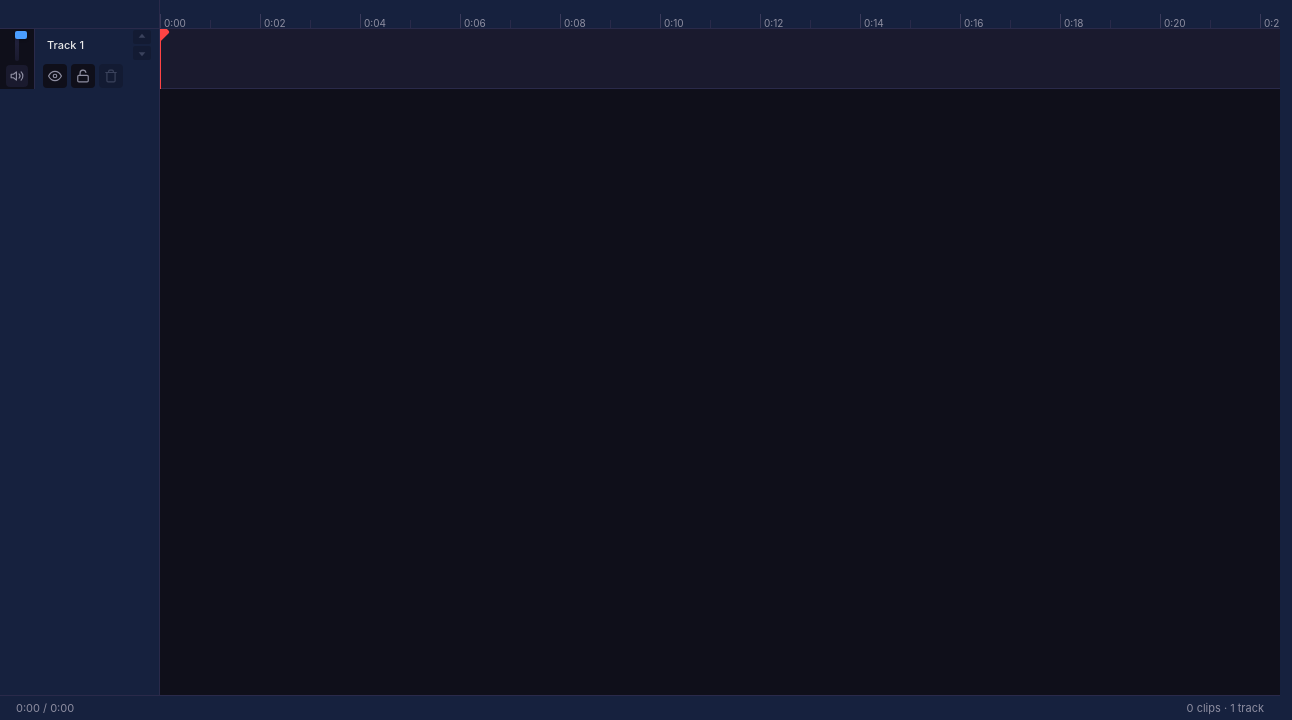
Test case: Timeline track headers › commits a rename when the field loses focus
Double-click the button "Track 1" at (86, 45), box [43,36,129,54]
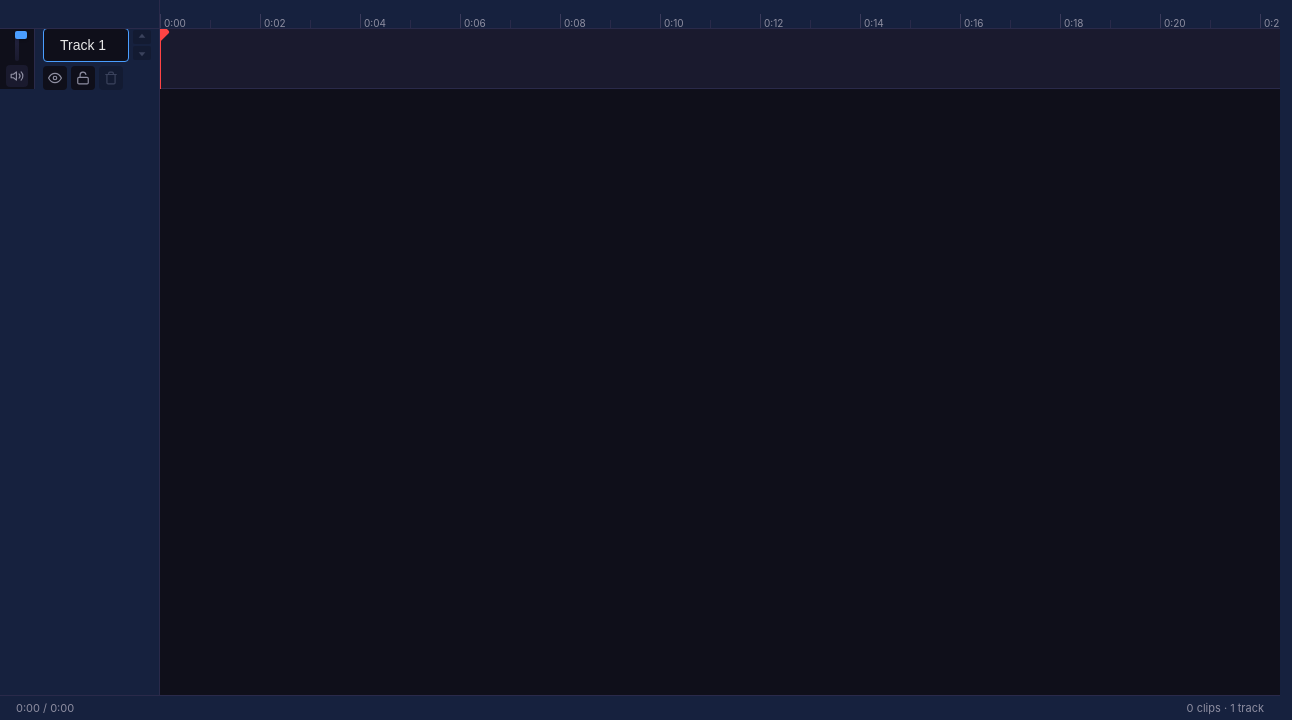
Replace the text in the field with "  Music  " at (86, 45), box [43,28,129,62]
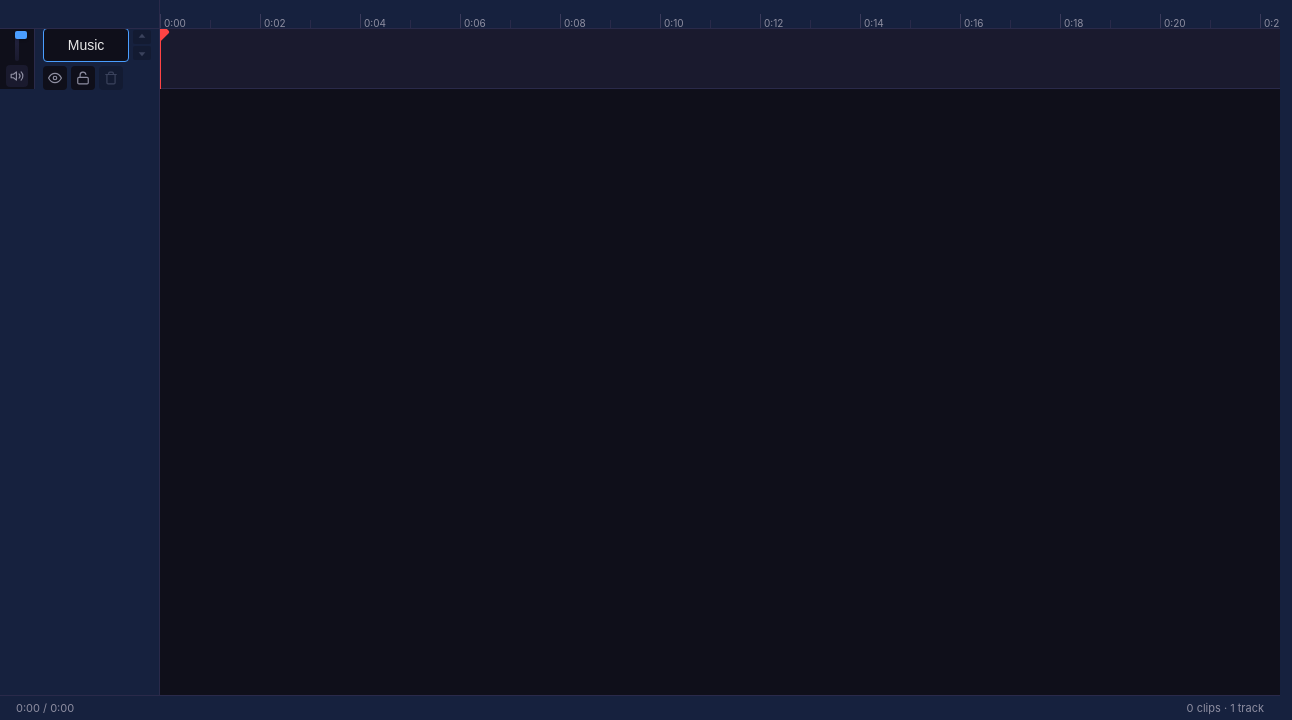
Leave the field, box [43,28,129,62]
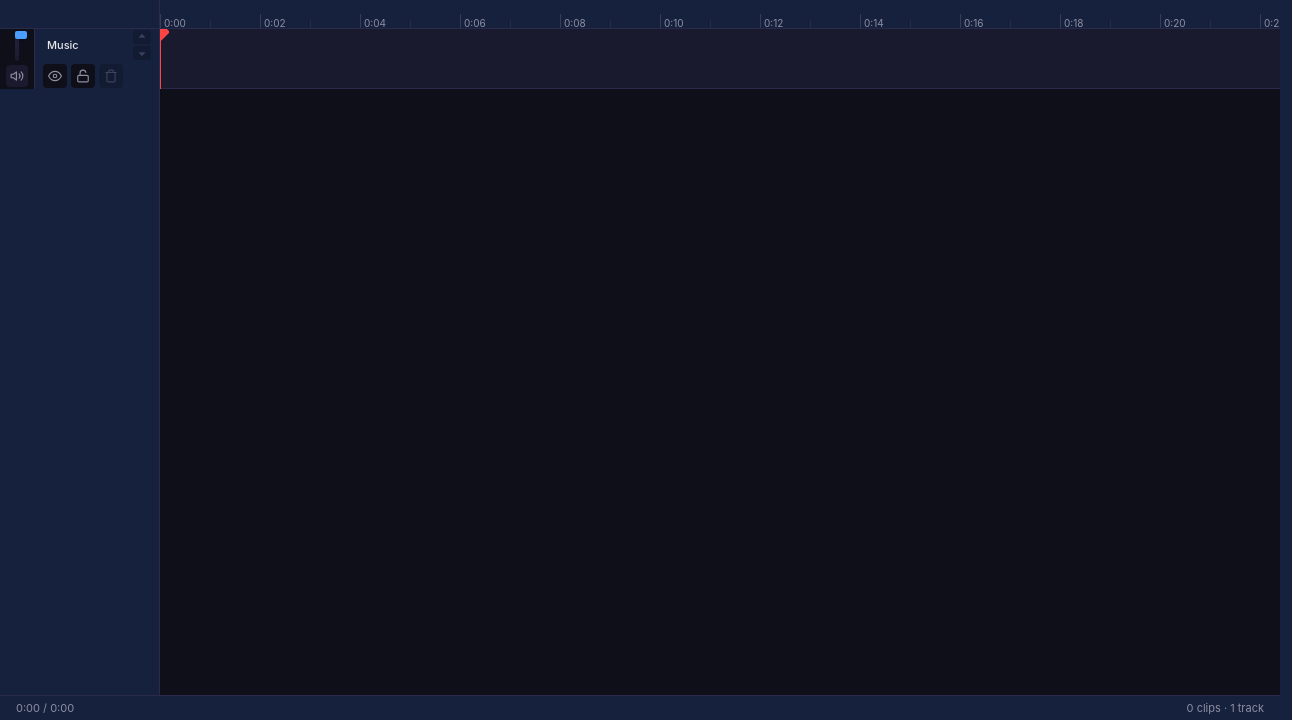
Check: the button "Music" is shown, box [43,36,129,54]
